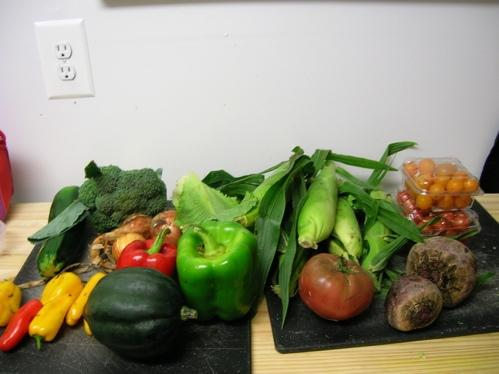bell pepper: (177, 220, 263, 320), (115, 227, 177, 279), (28, 292, 76, 351), (0, 298, 44, 351), (66, 272, 108, 326), (40, 272, 84, 305), (0, 278, 21, 326)
broccoli: (28, 160, 167, 245)
corn: (254, 156, 313, 300), (232, 161, 290, 228), (298, 160, 338, 250), (330, 194, 364, 266), (360, 220, 392, 269)
tomato: (300, 253, 373, 322), (437, 194, 456, 210), (429, 183, 445, 201), (434, 172, 450, 190), (416, 193, 433, 209), (452, 216, 470, 231), (419, 158, 435, 174), (446, 180, 464, 194), (435, 164, 456, 176), (403, 161, 418, 177), (454, 196, 472, 209), (418, 221, 434, 235), (418, 172, 434, 186), (452, 170, 470, 182), (464, 179, 478, 194), (440, 212, 454, 226), (403, 198, 416, 211), (410, 210, 423, 222), (422, 216, 435, 222), (445, 230, 458, 236), (406, 188, 411, 195)
vegetable marrow: (36, 186, 86, 278)
